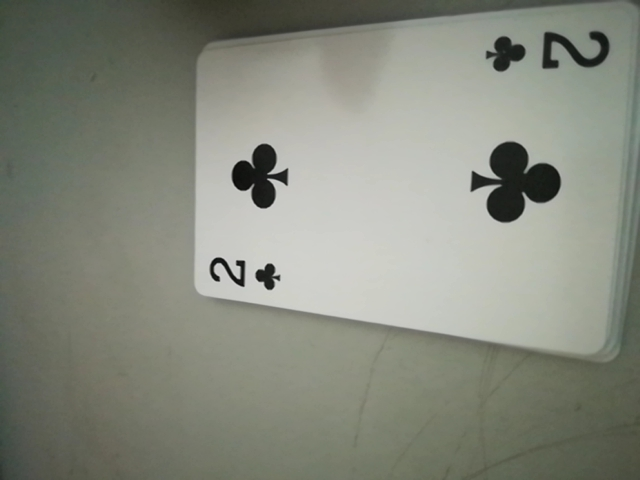mh 2: (483, 21, 610, 83), (203, 248, 288, 301)
